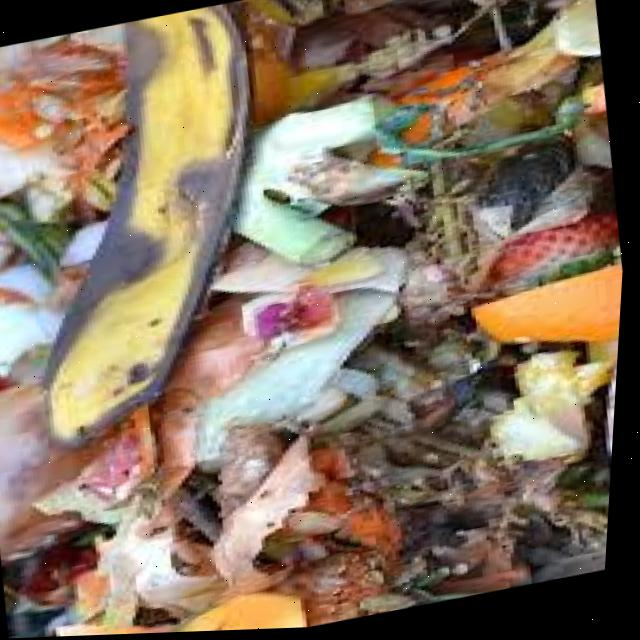Wet: (0, 1, 306, 448), (479, 267, 627, 367), (497, 217, 629, 299)
